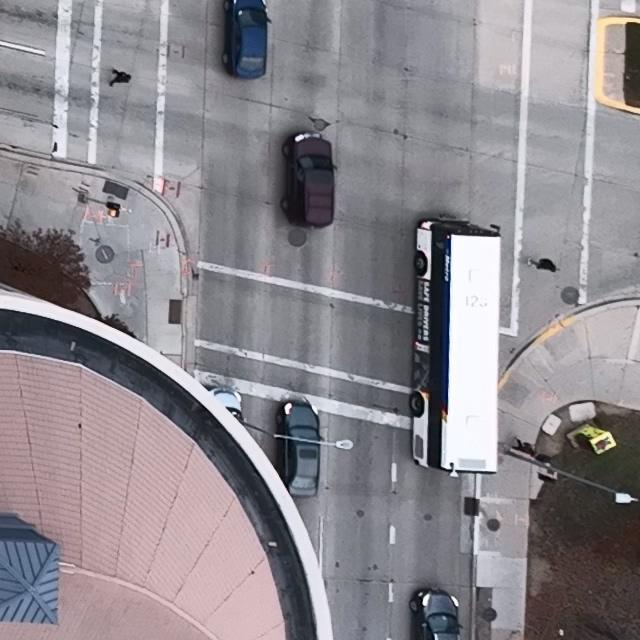car: (409, 219, 502, 476), (280, 131, 337, 229), (275, 400, 324, 498), (222, 0, 272, 78), (410, 588, 463, 640), (209, 386, 245, 424)
